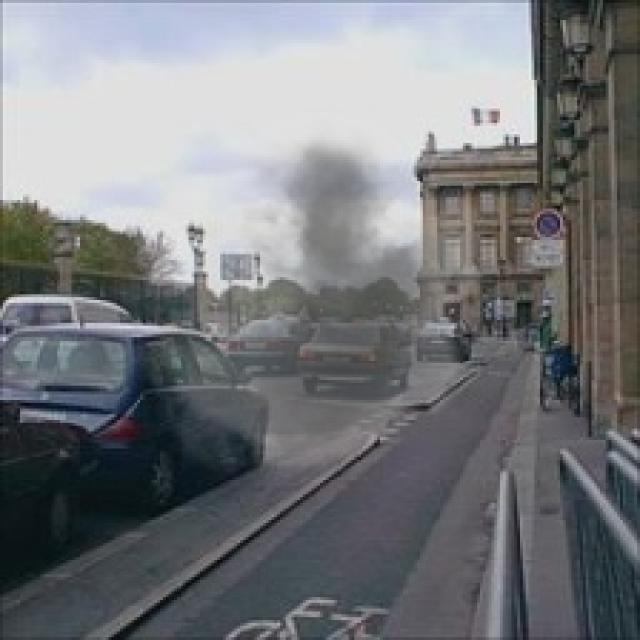smoke: (111, 109, 503, 492)
